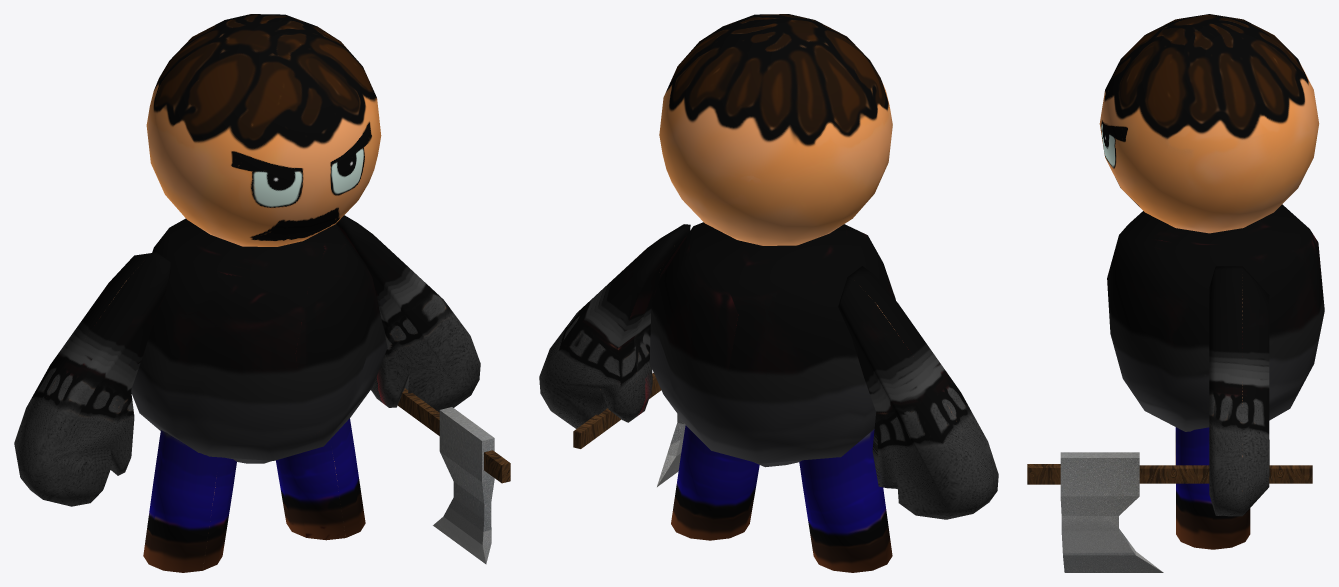
File: campesino.obj
3 renders of one model, left to right at view 1: azimuth 30°, elevation 25°; view 2: azimuth 150°, elevation 25°; view 3: azimuth 270°, elevation 25°, orthographic. The views are drawn at different scales.
Parts seen in each view (by area): view 1: Untitled_Sphere.000; view 2: Untitled_Sphere.000; view 3: Untitled_Sphere.000.
Boxes of the visible parts, x1,y1,x2,y2 form: Untitled_Sphere.000: (14,14,510,572); Untitled_Sphere.000: (539,14,998,572); Untitled_Sphere.000: (1027,14,1324,572).
Bounding box in the file's own units: 1.28 × 1.42 × 0.7913.
Materials: 1 (1 with a texture image).
